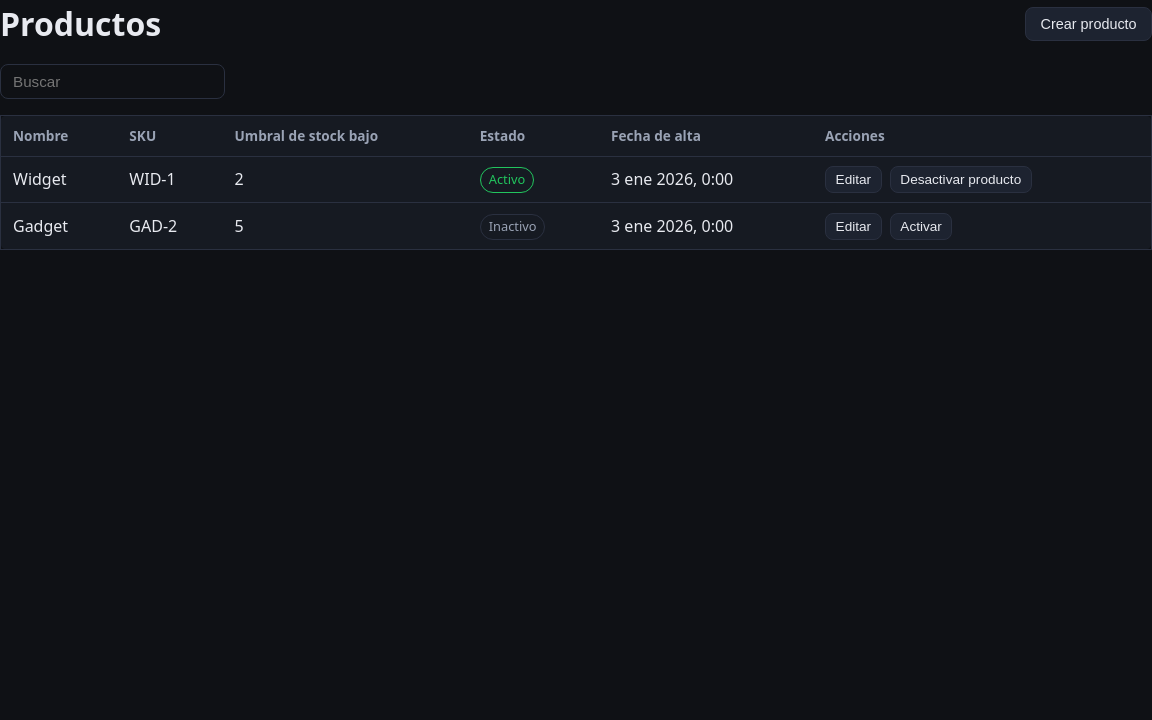
Test: R-UI-CRM-6: create product › R-UI-CRM-6: sku with invalid characters → localized client error, NO request
Check: the text "Widget" is shown, box [0,156,117,203]
Step 1. Click the button "Crear producto" → (1089, 24), box [1025,7,1151,41]
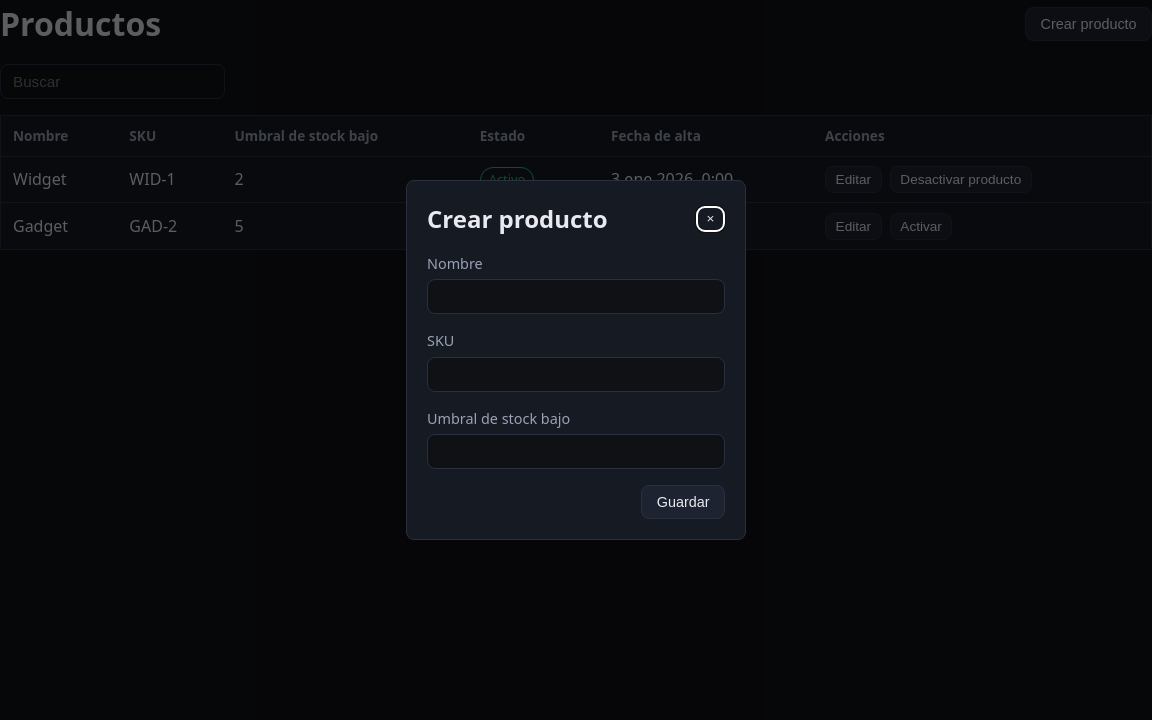
Step 2. Type "Nuevo" into the field labelled "Nombre" → (576, 297), box [427,279,725,314]
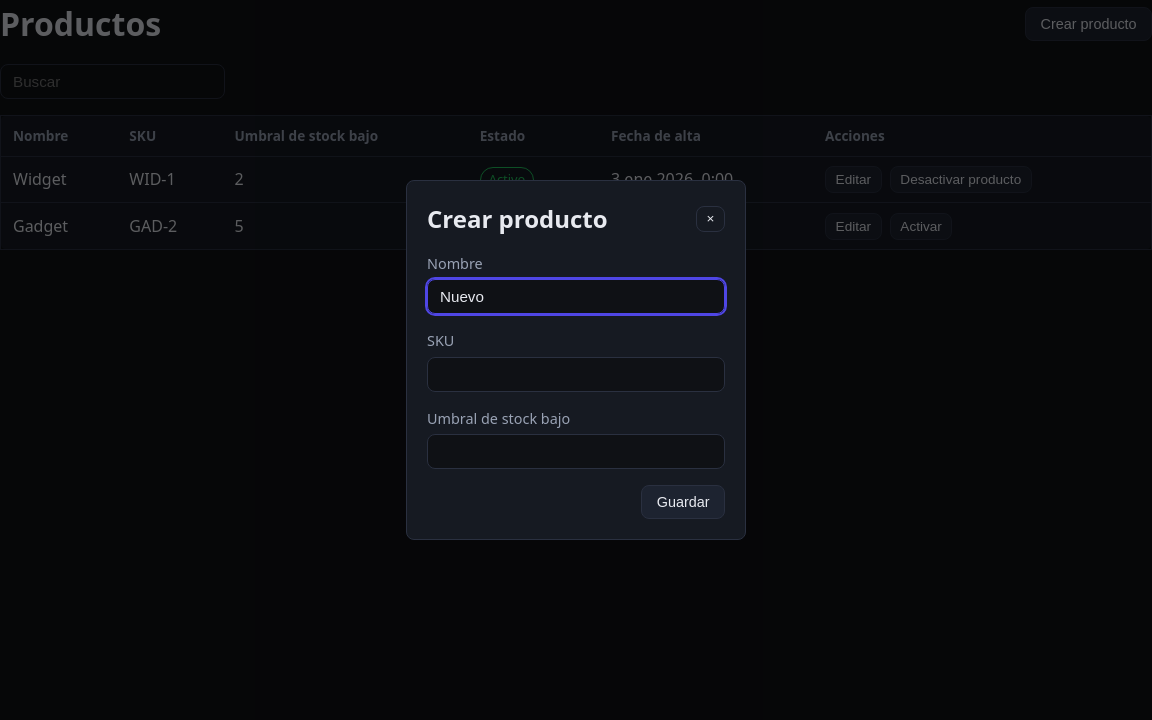
Step 3. Type "BAD SKU!" into the field labelled "SKU" → (576, 374), box [427,357,725,392]
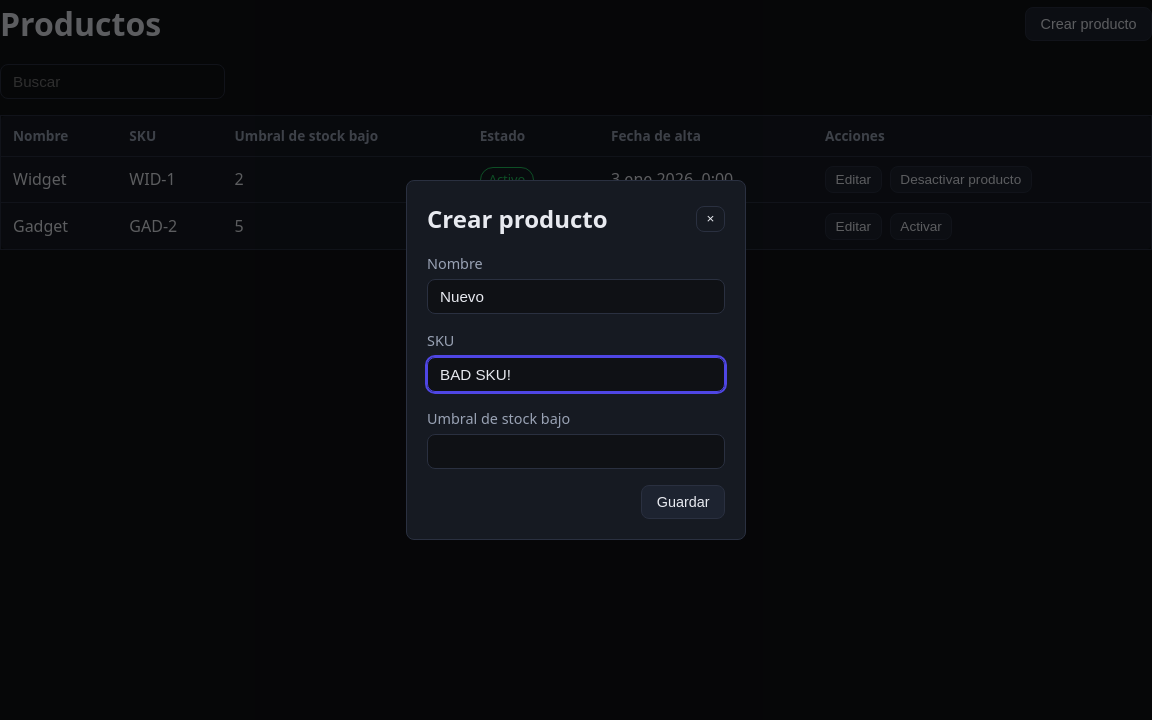
Step 4. Click the button "Guardar" → (683, 502), box [641,485,725,519]
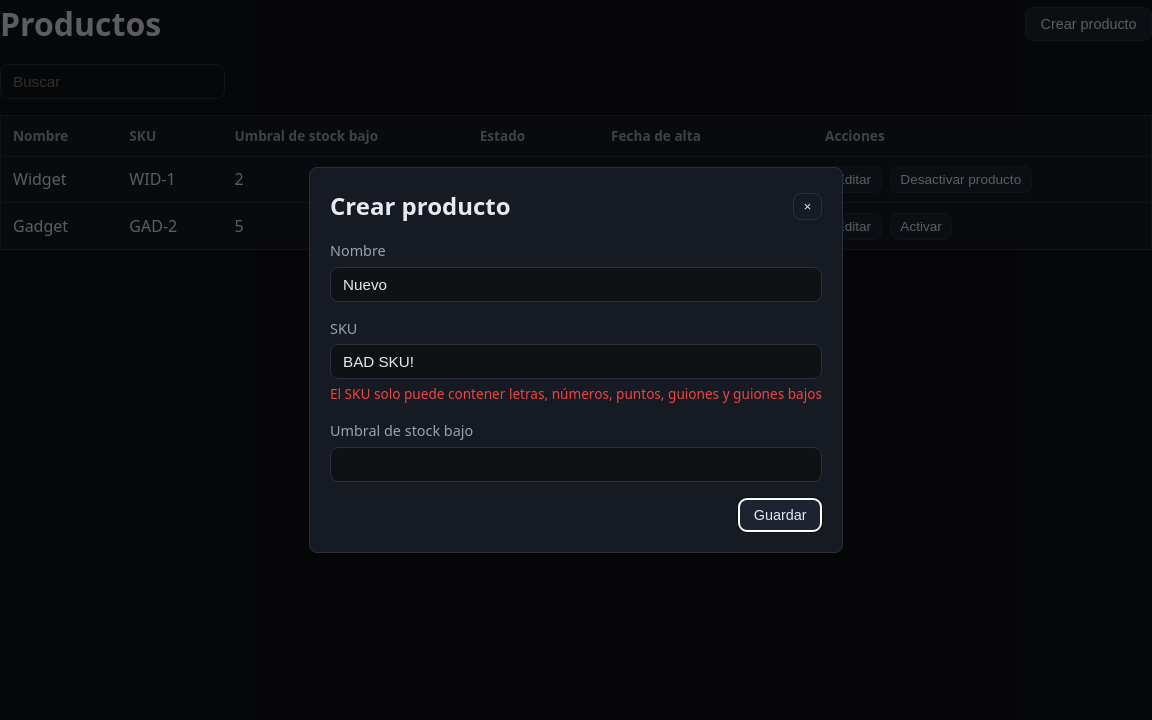
Check: the text "El SKU solo puede contener letras, números, puntos, guiones y guiones bajos" is shown, box [330,384,822,404]
